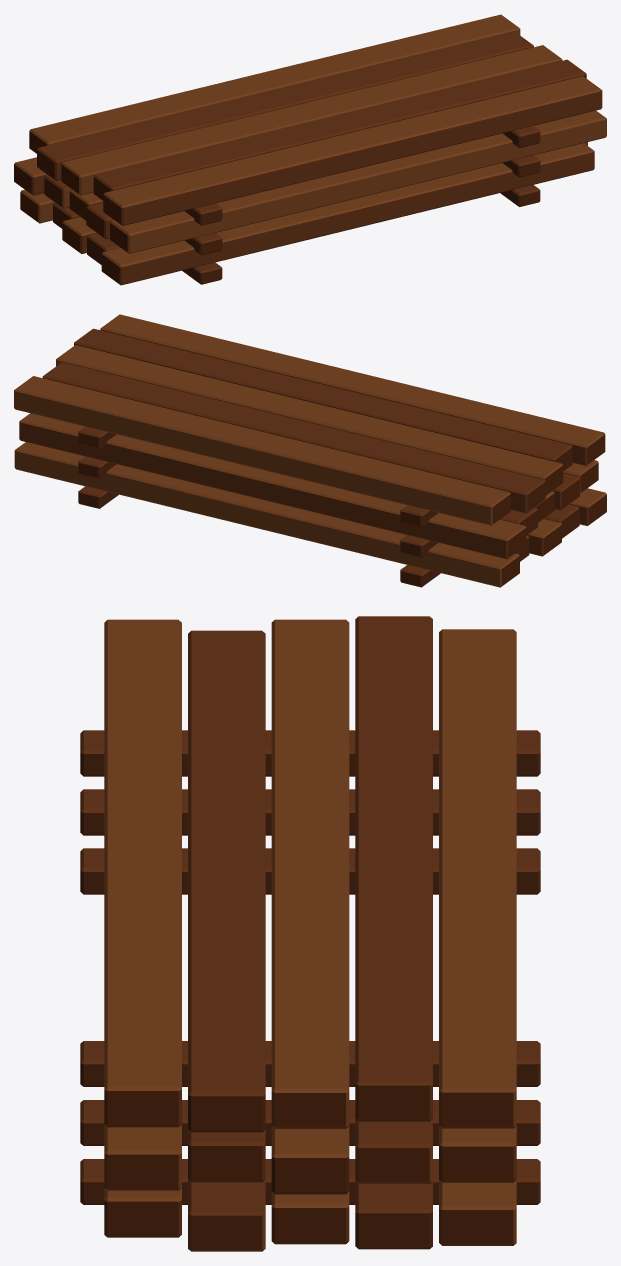
File: Timber Plank Stack.obj
The picture shows the model from 3 angles, top to bottom: view 1: azimuth 30°, elevation 25°; view 2: azimuth 150°, elevation 25°; view 3: azimuth 270°, elevation 25°; orthographic projection. The views are drawn at different scales.
Visible parts, largest first — view 1: Timber_Plank_Stack.Static; view 2: Timber_Plank_Stack.Static; view 3: Timber_Plank_Stack.Static.
Boxes of the visible parts, x1,y1,x2,y2 form: Timber_Plank_Stack.Static: [14, 14, 606, 285]; Timber_Plank_Stack.Static: [14, 314, 606, 587]; Timber_Plank_Stack.Static: [80, 616, 540, 1251].
Size of the model in its own units: 2.08 by 0.3712 by 0.839.
